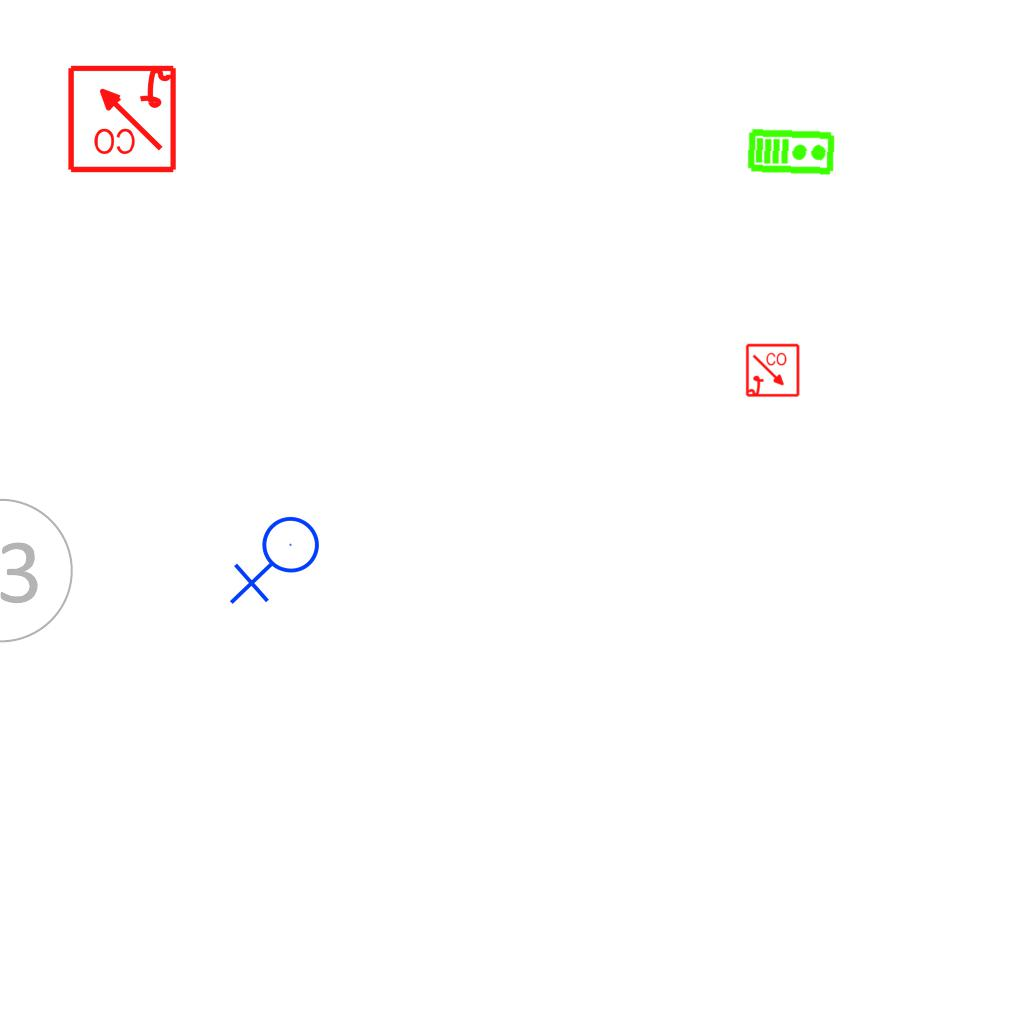Elektroanschluss_allgemein_230V_Geraeteanschlussdose_230V: (229, 515, 328, 609)
Gegensprechanlage_mit_Video: (746, 125, 837, 177)
ROA_Rauchmelder_optisch_mit_Signalgeber_(Sockelsirene): (65, 61, 178, 174), (745, 343, 801, 399)
